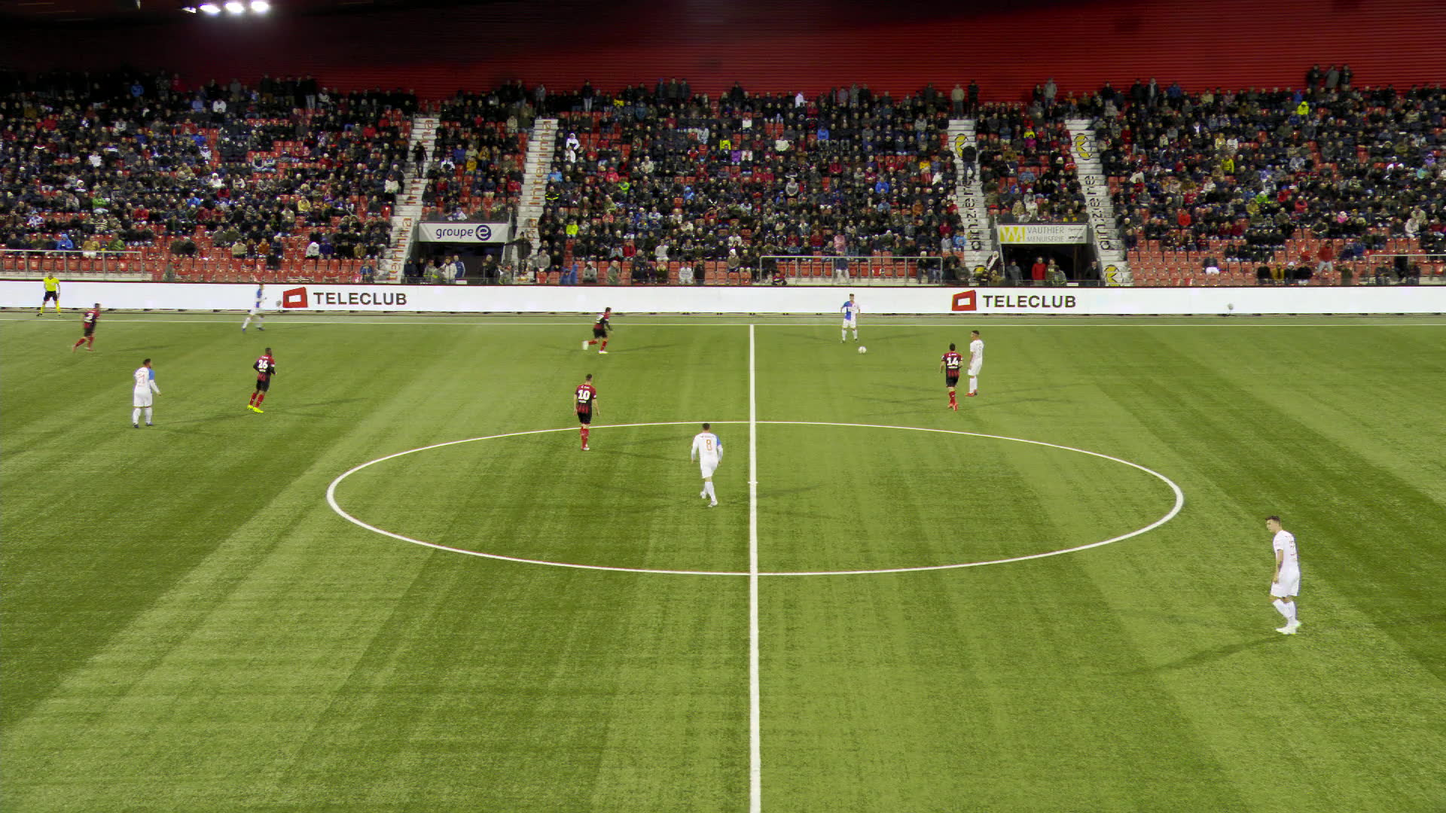ball: (857, 346, 868, 355)
player: (1261, 515, 1309, 637), (688, 419, 719, 507), (568, 373, 599, 452), (127, 359, 158, 430), (249, 344, 277, 412), (935, 346, 964, 411), (962, 329, 983, 397), (66, 305, 94, 355), (580, 307, 608, 355), (836, 294, 859, 343), (236, 284, 259, 331)
referee: (37, 269, 59, 317)
